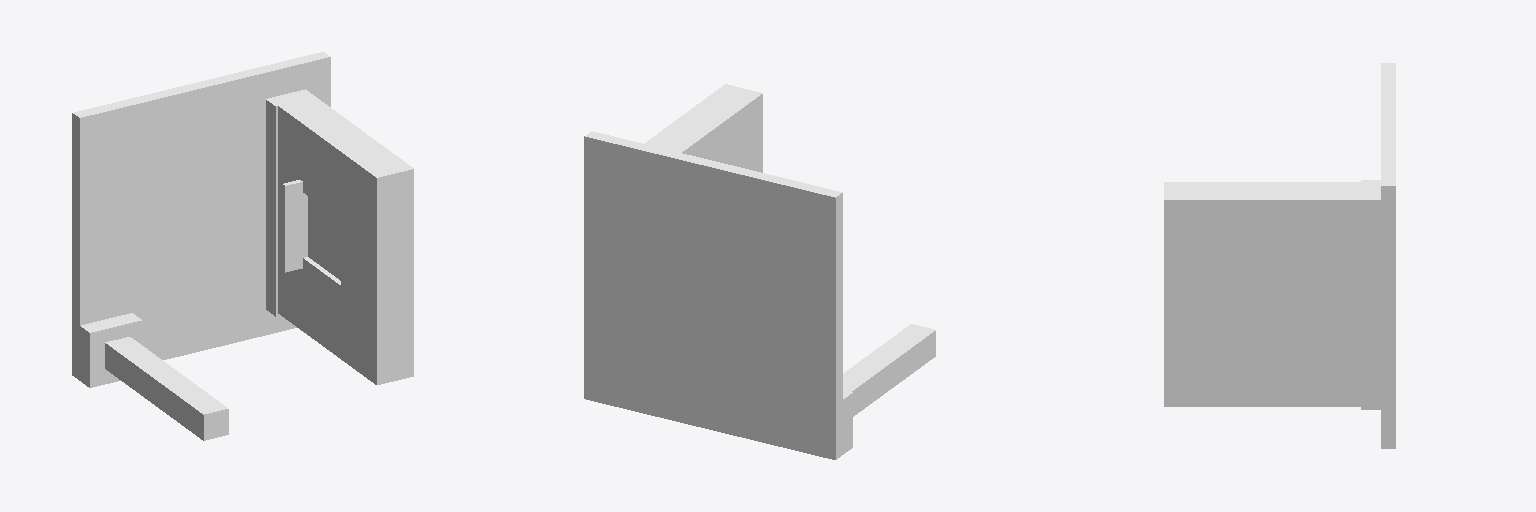
The model's file is Building1Var1-Entrance1-0.obj.
3 views of the same model, side by side, from view 1: azimuth 30°, elevation 25°; view 2: azimuth 150°, elevation 25°; view 3: azimuth 270°, elevation 25° (orthographic).
Parts seen in each view (by area): view 1: object 1; view 2: object 1; view 3: object 1.
Boxes of the visible parts, box(x1,y1,x2,y2) form: object 1: box(72, 52, 413, 440); object 1: box(584, 84, 935, 459); object 1: box(1164, 63, 1395, 448).
Size of the model in its own units: 100 by 100 by 80.